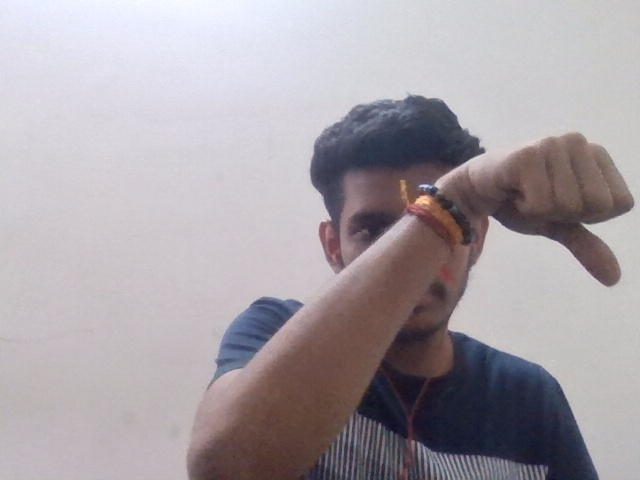yes: (441, 127, 640, 291)
